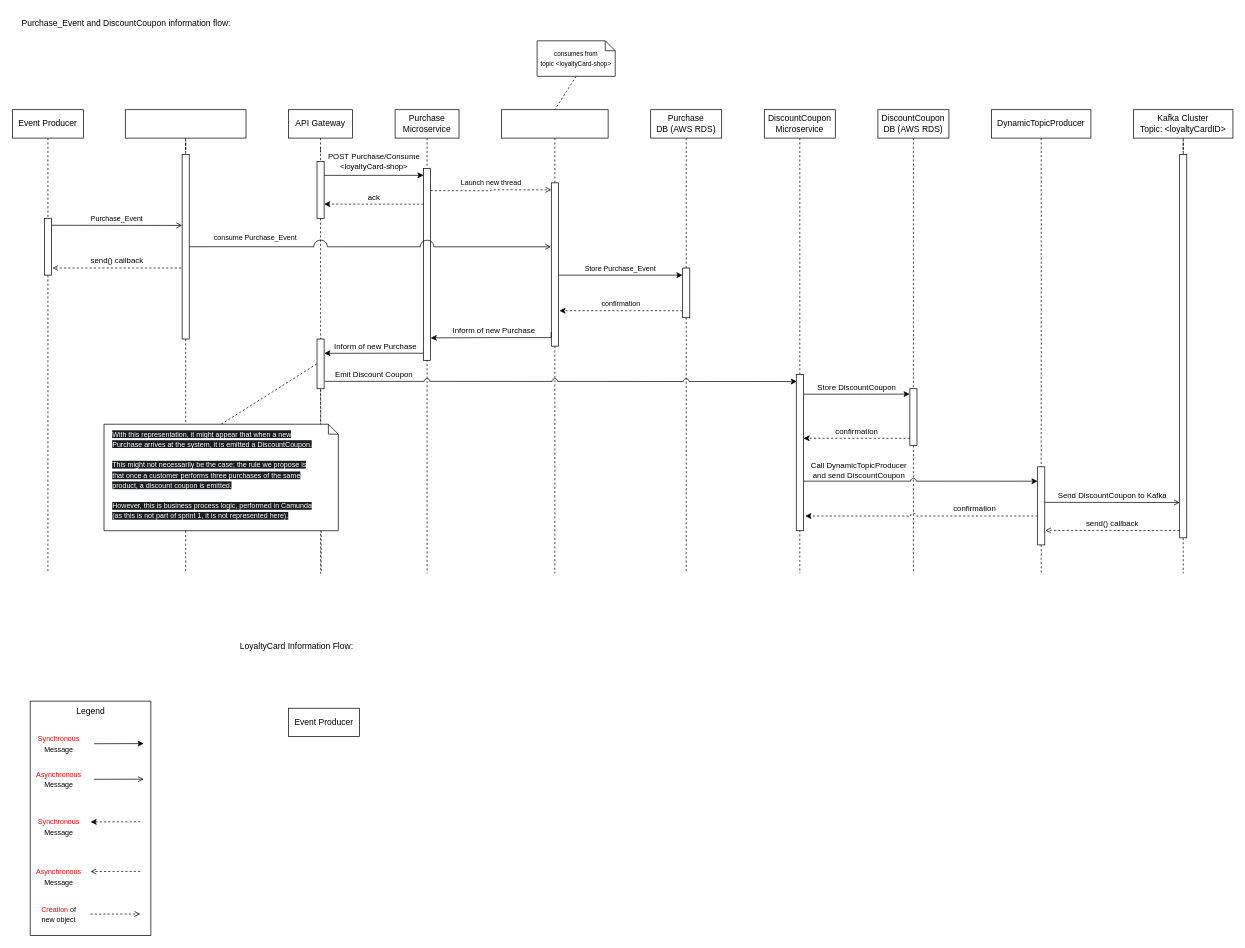
Image size: 1245x948. Some labels were removed from this diagram. Each missing label, with the box of its shape:
DynamicTopicConsumer Thread: (501, 109, 608, 138)
Kafka Cluster Topic: <loyaltyCardID-shopID>: (125, 109, 246, 138)
